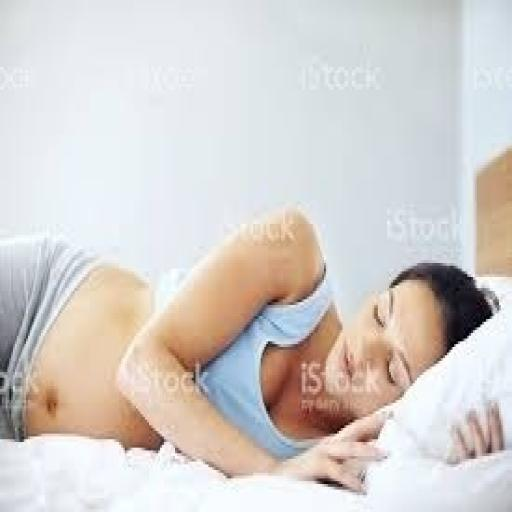sleeping: (0, 202, 503, 496)
